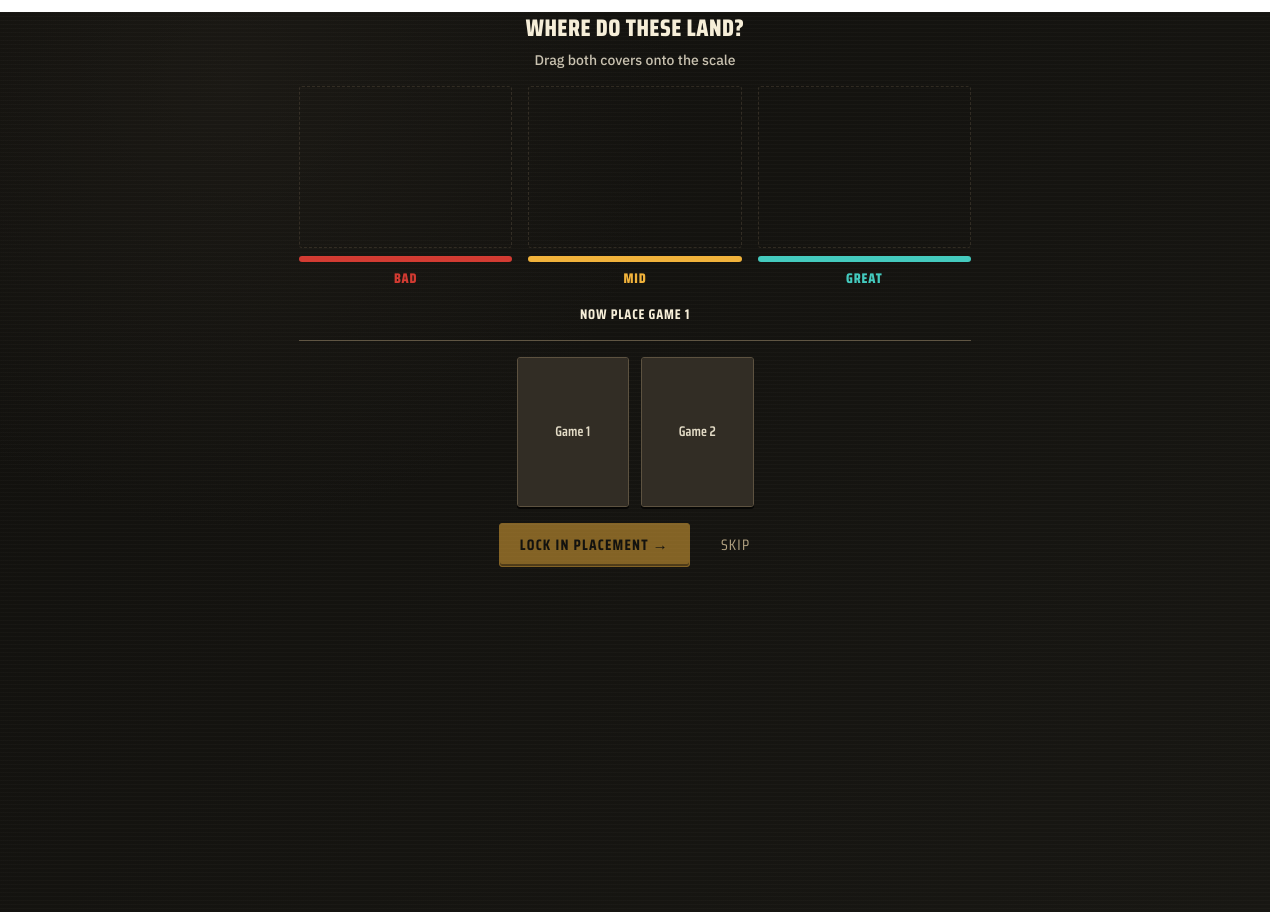
Scenario: HigherLower (the scale) › shows a live readout explaining the current placement
Check: the text "Now place Game 1" is shown, box [580, 304, 690, 324]
Click the button "Game 2": (697, 432) [641, 357, 754, 507]
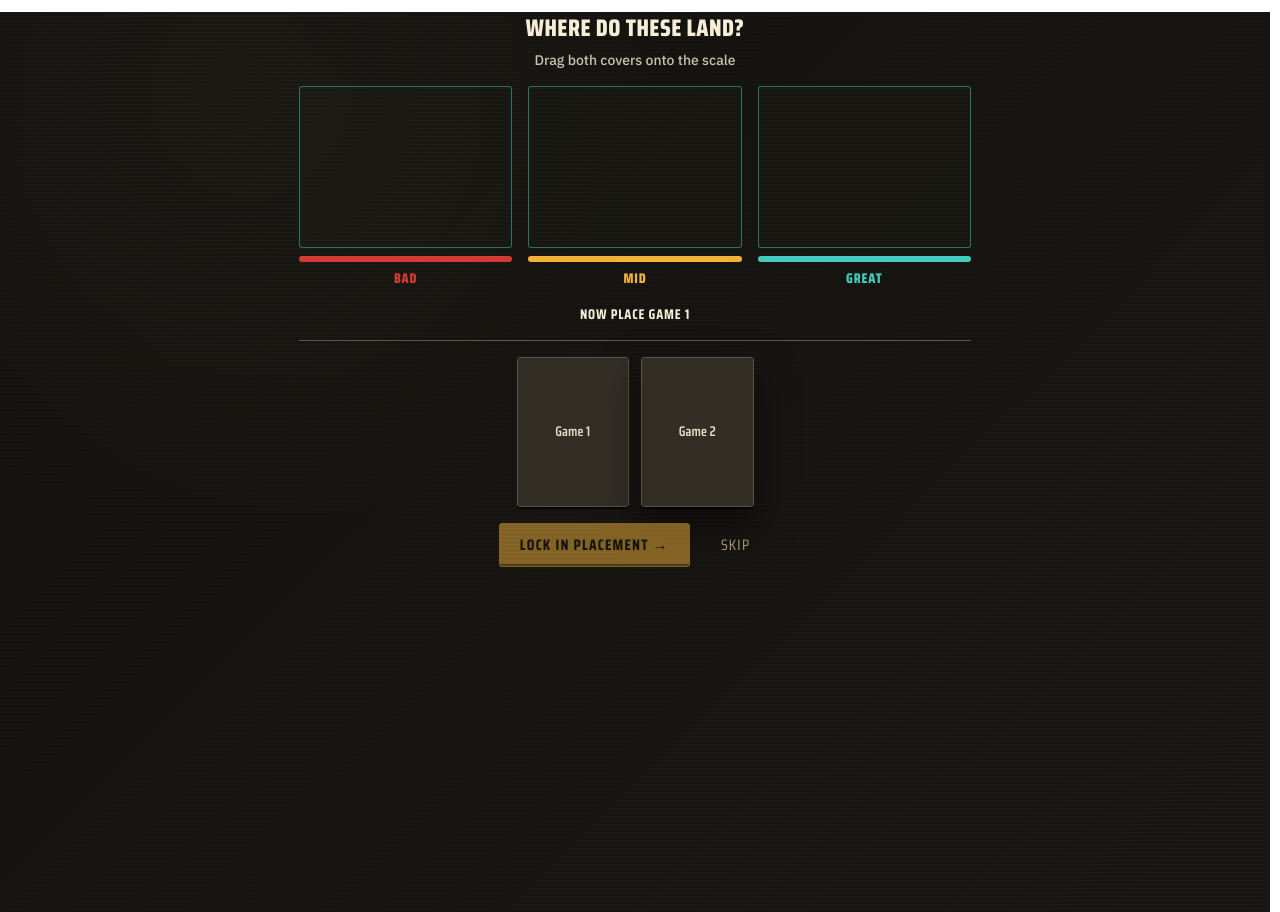
Click the button named "Great band": (864, 167) [758, 86, 971, 248]
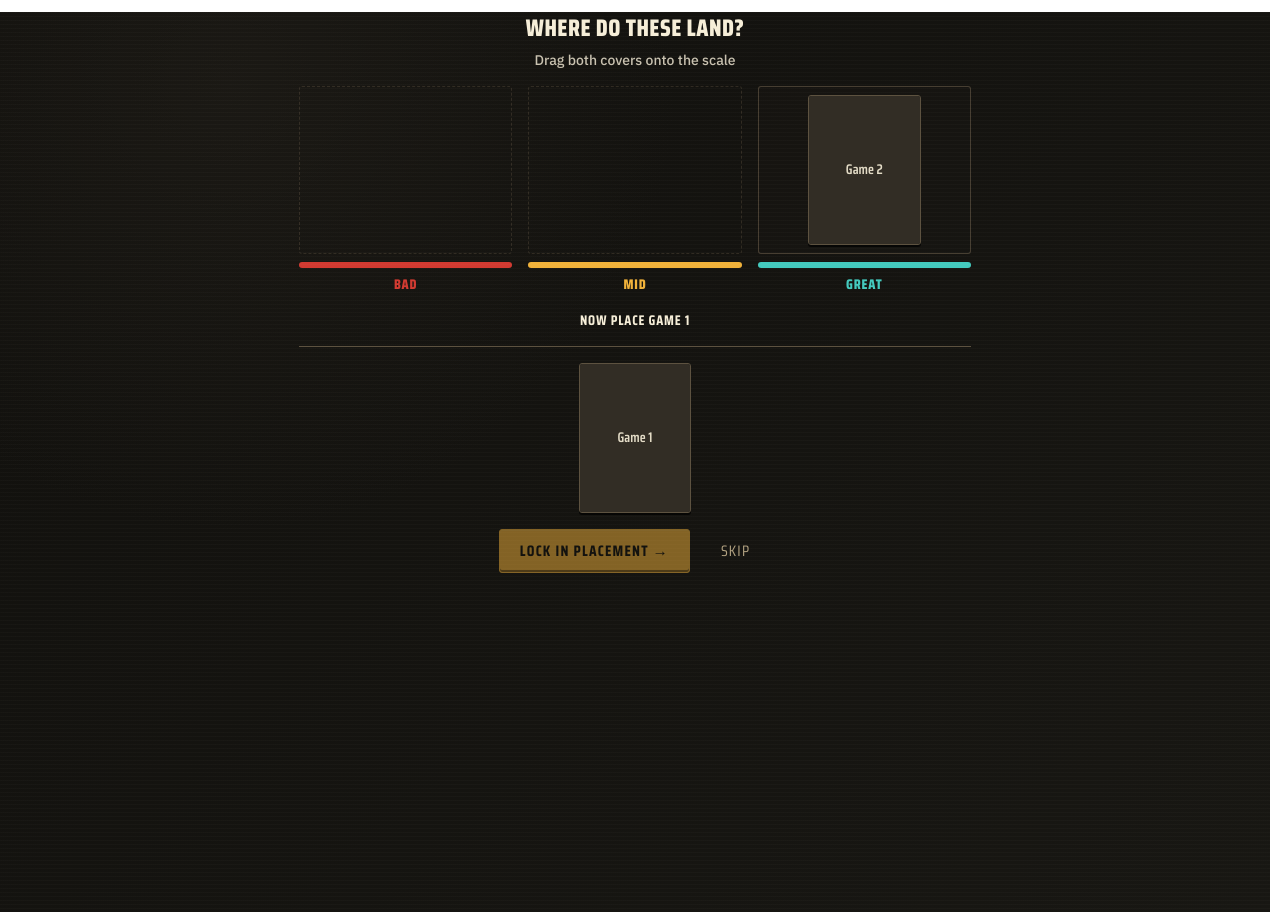
Click the button "Game 1": (635, 438) [579, 363, 691, 513]
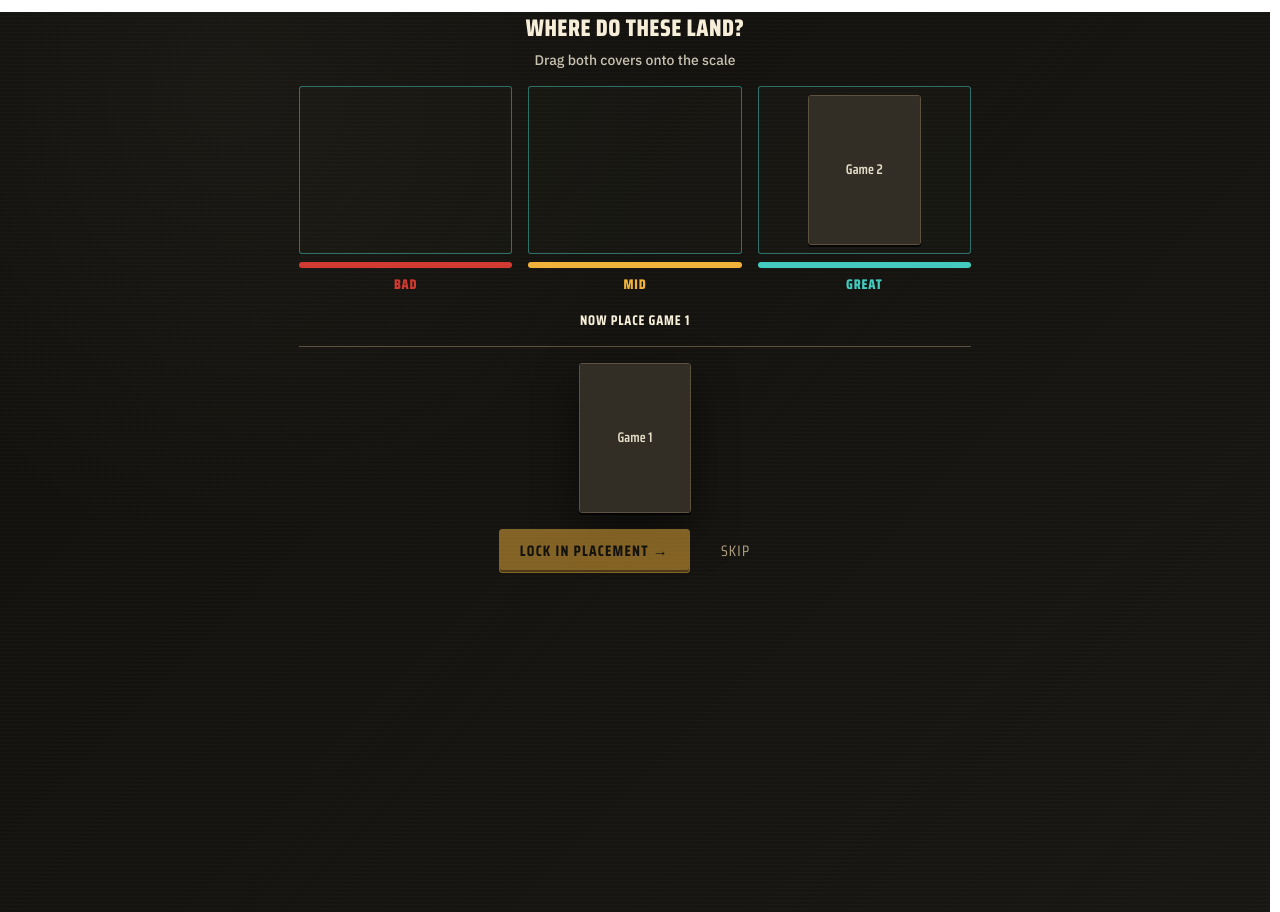
Click the button named "Mid band": (635, 170) [528, 86, 742, 254]
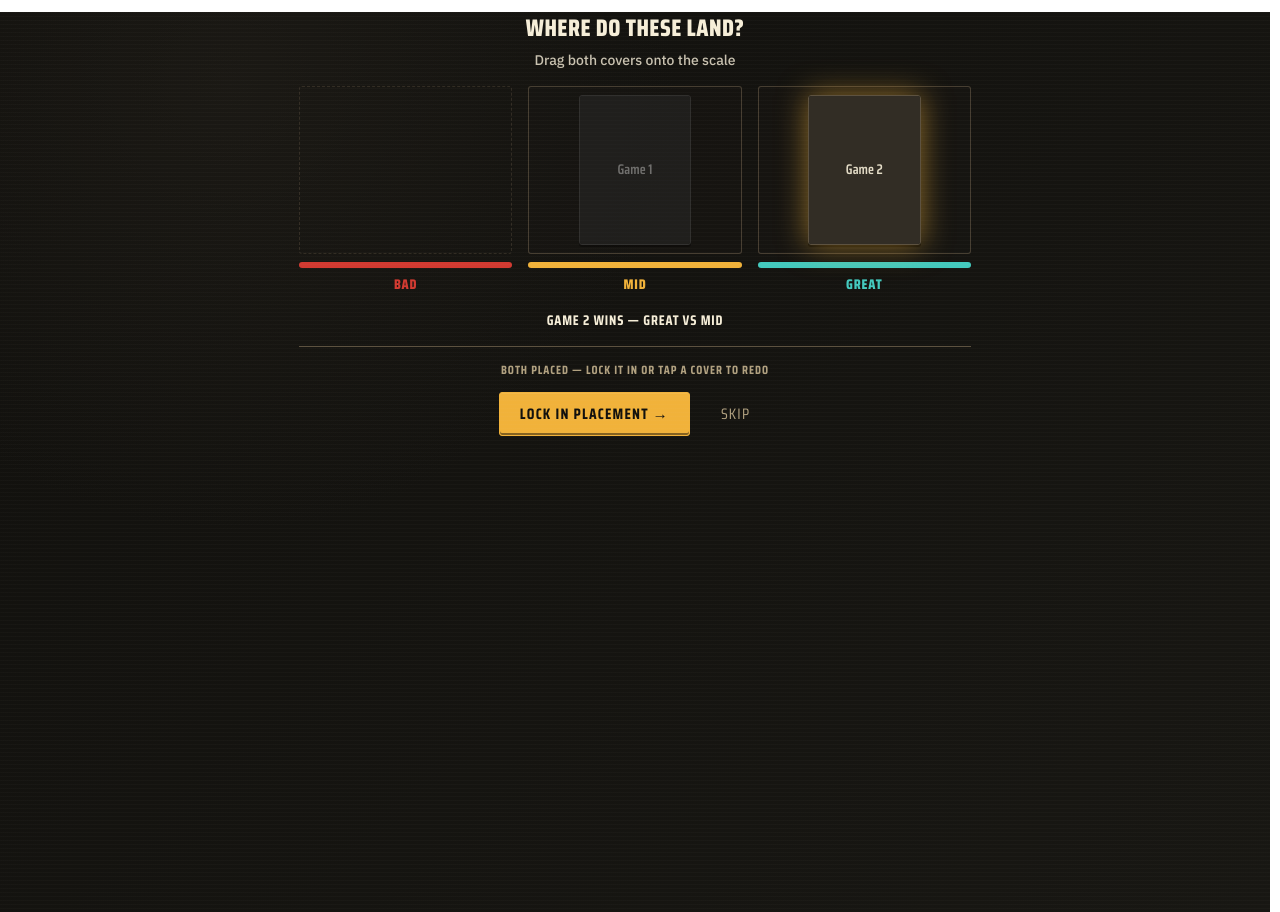
Check: the text "Game 2 wins — Great vs Mid" is shown, box [547, 310, 723, 330]
